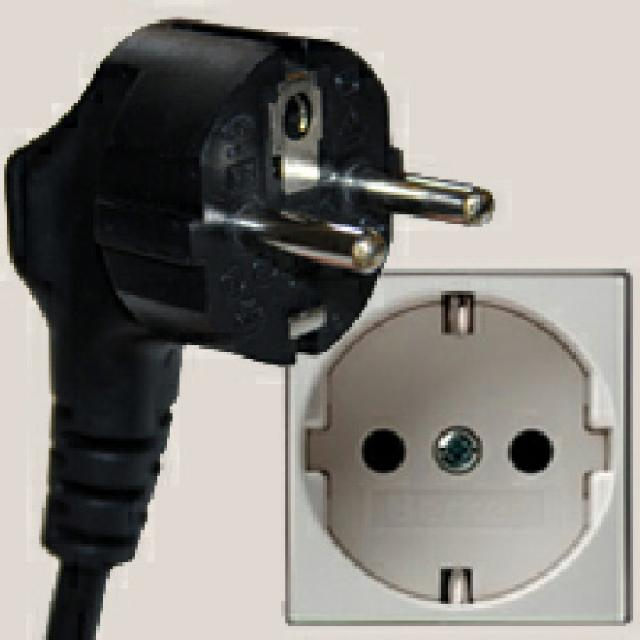typeb: (285, 266, 630, 634)
